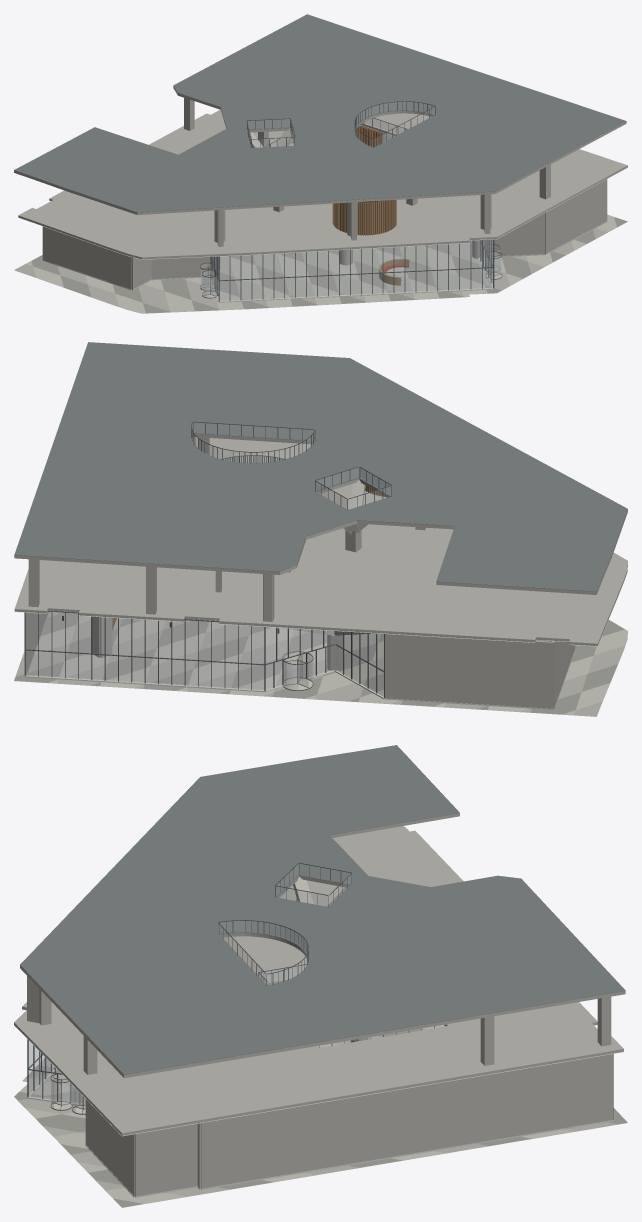
The model's file is mar-interior-363c937eeb23.glb.
3 renders of one model, top to bottom at view 1: azimuth 30°, elevation 25°; view 2: azimuth 150°, elevation 25°; view 3: azimuth 270°, elevation 25°, orthographic. The views are drawn at different scales.
Parts seen in each view (by area): view 1: MAR.001; view 2: MAR.001; view 3: MAR.001.
Boxes of the visible parts, x1,y1,x2,y2 form: MAR.001: (14,14,627,313); MAR.001: (14,342,627,716); MAR.001: (14,745,627,1207).
Size of the model in its own units: 67.69 by 13.88 by 53.21.
